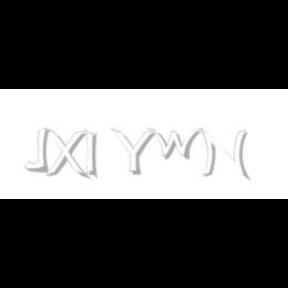I: (86, 128, 98, 180)
J: (24, 128, 50, 172)
N: (200, 128, 248, 180)
X: (43, 128, 87, 180)
Y: (110, 128, 156, 176)
w: (146, 128, 206, 160)
